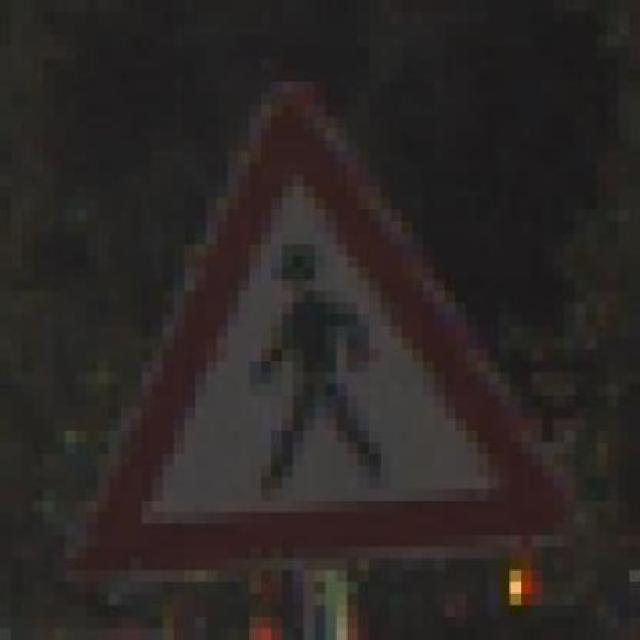Pedestrian Crossing: (64, 70, 576, 582)
